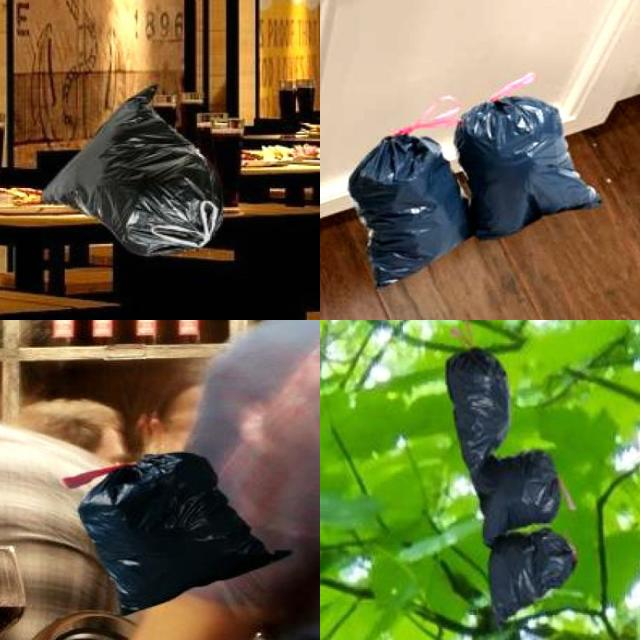Single-layer Plastic: (62, 452, 285, 613), (44, 85, 222, 256), (455, 72, 600, 239), (349, 96, 469, 286), (446, 349, 509, 480), (490, 529, 576, 624), (474, 450, 560, 544)
